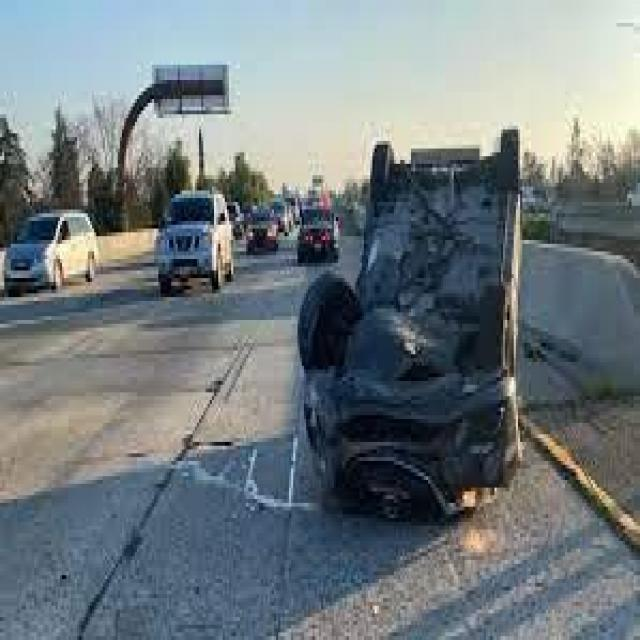severe: (294, 118, 532, 518)
